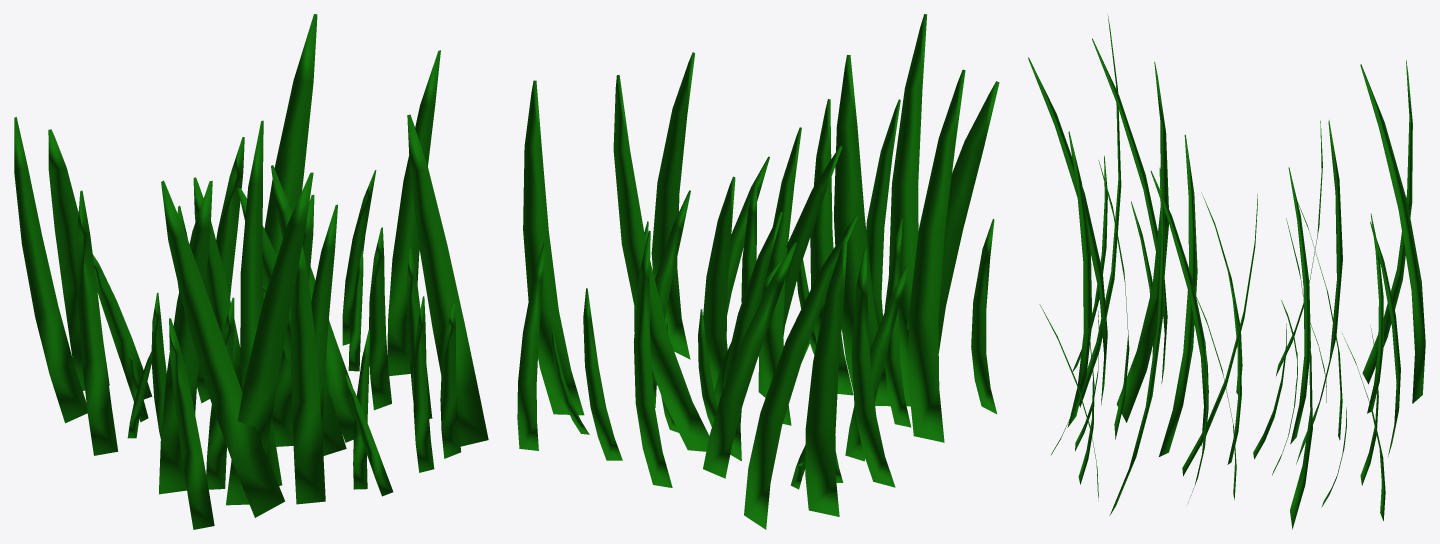
The model's file is GrassNoLODs.fbx.
The picture shows the model from 3 angles, left to right: view 1: azimuth 30°, elevation 25°; view 2: azimuth 150°, elevation 25°; view 3: azimuth 270°, elevation 25°; orthographic projection.
Visible parts, largest first — view 1: Grass; view 2: Grass; view 3: Grass.
Boxes of the visible parts, <box> form: Grass: <box>14,14,488,529</box>; Grass: <box>517,14,999,529</box>; Grass: <box>1028,14,1425,529</box>.
Size of the model in its own units: 50.99 by 48.43 by 47.04.
